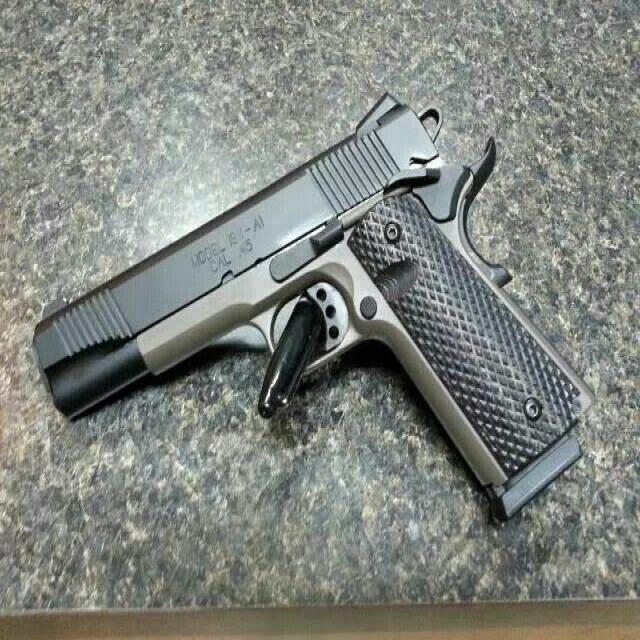HandGun: (31, 95, 589, 523)
